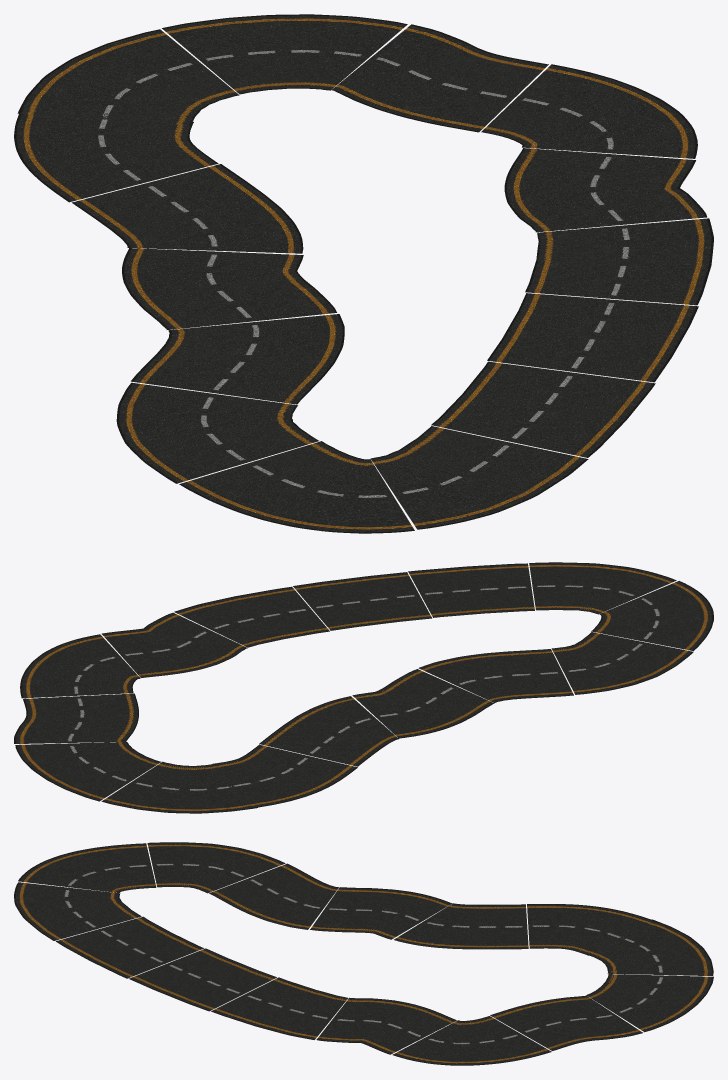
File: circleroad.glb
The picture shows the model from 3 angles, top to bottom: view 1: azimuth 30°, elevation 25°; view 2: azimuth 150°, elevation 25°; view 3: azimuth 270°, elevation 25°; orthographic projection. The views are drawn at different scales.
Parts seen in each view (by area): view 1: Plane; view 2: Plane; view 3: Plane.
Part boxes in pixels (x1,y1,x2,y2): Plane: (14, 14, 713, 533); Plane: (14, 562, 713, 813); Plane: (14, 842, 713, 1065).
Size of the model in its own units: 6.23 by 4.64e-07 by 8.25.
Materials: 1 (1 with a texture image).
